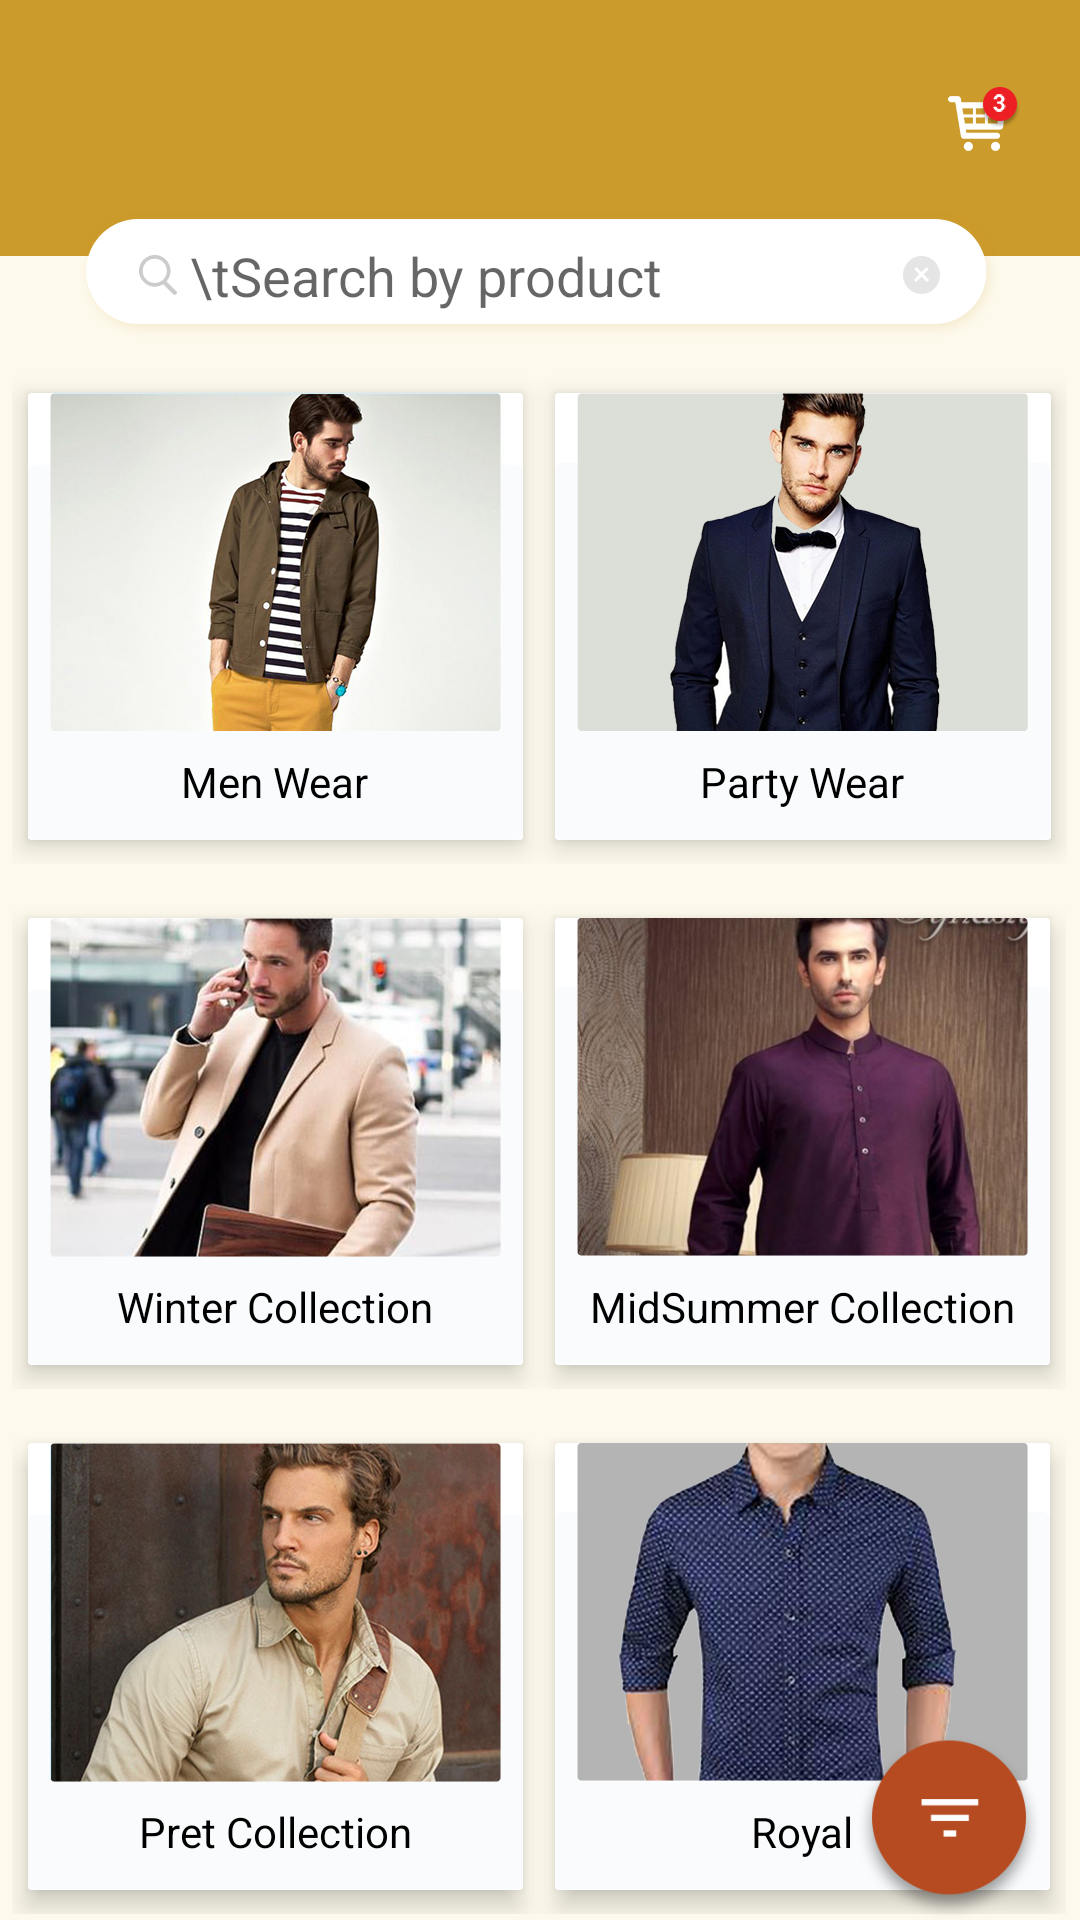

Where icons sit on this 1080px x 1920px app screen, as (x1, y1, x2, y2):
menitems cart notification: (948, 87, 1017, 151)
